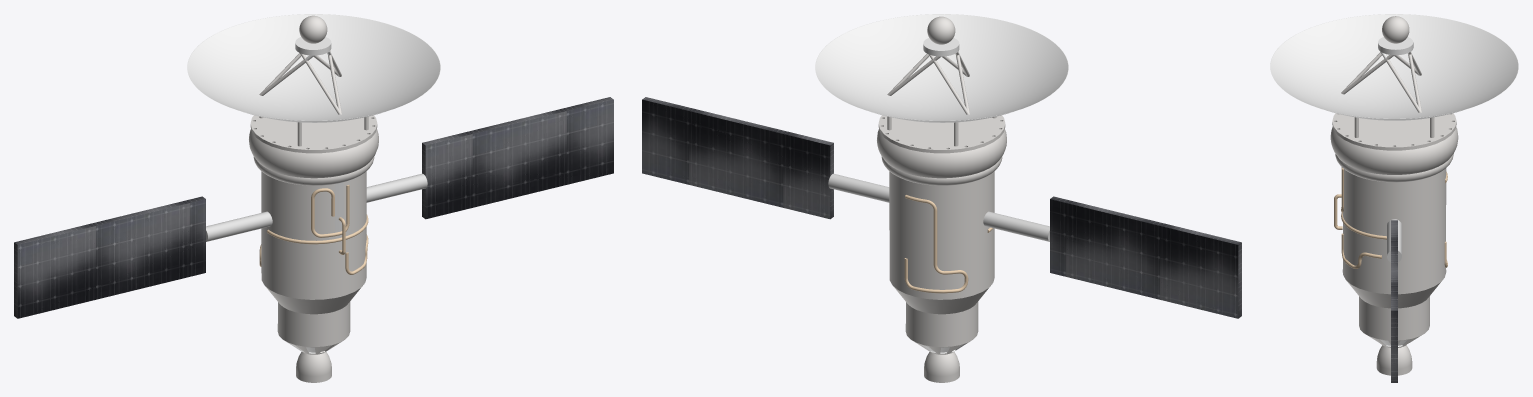
File: mahvare.glb
3 views of the same model, side by side, from view 1: azimuth 30°, elevation 25°; view 2: azimuth 150°, elevation 25°; view 3: azimuth 270°, elevation 25° (orthographic).
Parts seen in each view (by area): view 1: mahvare; view 2: mahvare; view 3: mahvare.
Boxes of the visible parts, <box> form: mahvare: <box>14,14,613,382</box>; mahvare: <box>642,14,1241,382</box>; mahvare: <box>1270,14,1518,382</box>.
Size of the model in its own units: 1.9 by 1.09 by 0.7.
8 materials, 1 textured.
